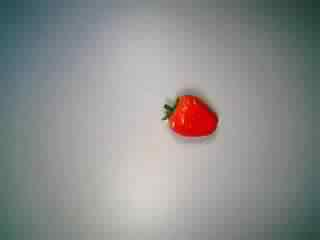strawberry: (151, 88, 234, 146)
